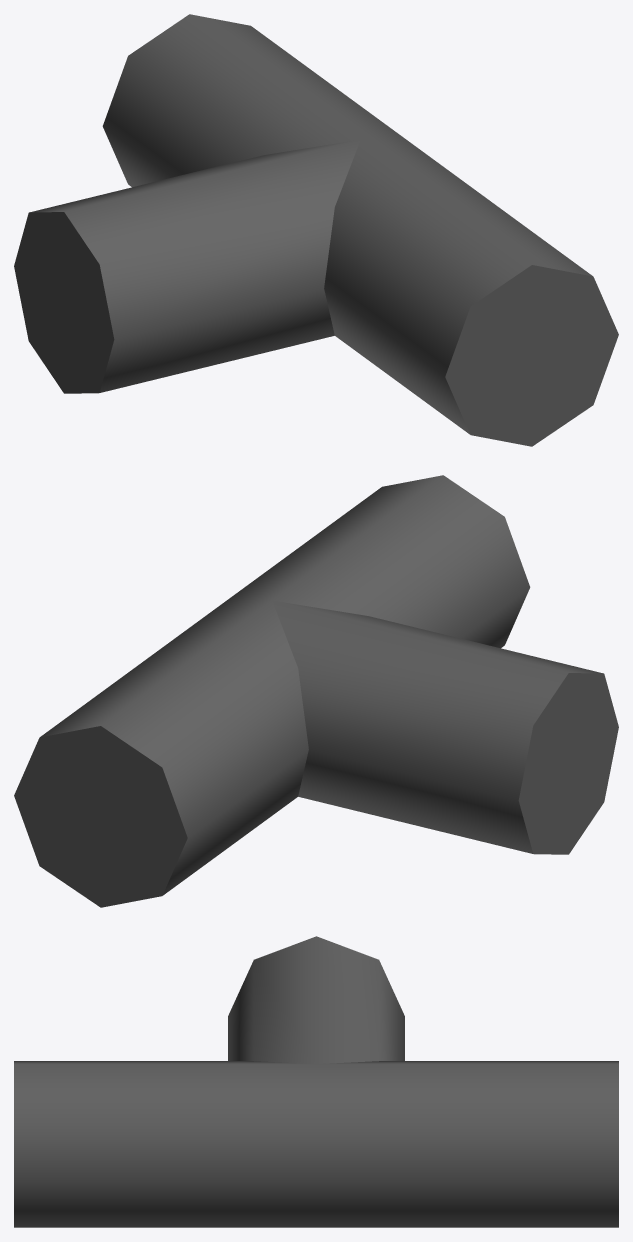
The model's file is pipe_002.fbx.
3 renders of one model, top to bottom at view 1: azimuth 30°, elevation 25°; view 2: azimuth 150°, elevation 25°; view 3: azimuth 270°, elevation 25°, orthographic. The views are drawn at different scales.
Visible parts, largest first — view 1: pipe_002; view 2: pipe_002; view 3: pipe_002.
Boxes of the visible parts, x1=… form: pipe_002: x1=14, y1=14, x2=618, y2=446; pipe_002: x1=14, y1=475, x2=618, y2=907; pipe_002: x1=14, y1=936, x2=618, y2=1227.
Bounding box in the file's own units: 178 × 275 × 80.58.
